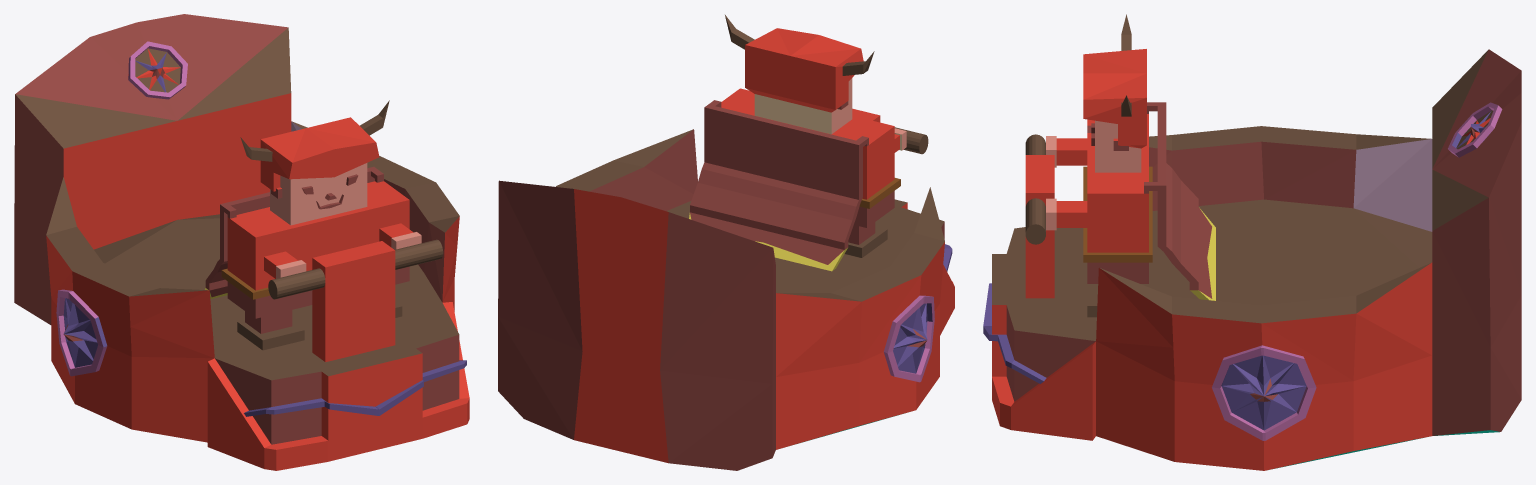
Rendered from personaje-malo.fbx.
The picture shows the model from 3 angles, left to right: view 1: azimuth 30°, elevation 25°; view 2: azimuth 150°, elevation 25°; view 3: azimuth 270°, elevation 25°; orthographic projection. The views are drawn at different scales.
Visible parts, largest first — view 1: m1, m2; view 2: m1, m2; view 3: m2, m1.
Part boxes in pixels (x1,y1,x2,y2): m1: (14, 22, 379, 470); m2: (137, 14, 469, 450); m1: (621, 35, 954, 470); m2: (498, 15, 818, 451); m2: (983, 73, 1521, 470); m1: (983, 14, 1521, 325).
Size of the model in its own units: 1.67 by 1.21 by 1.85.
